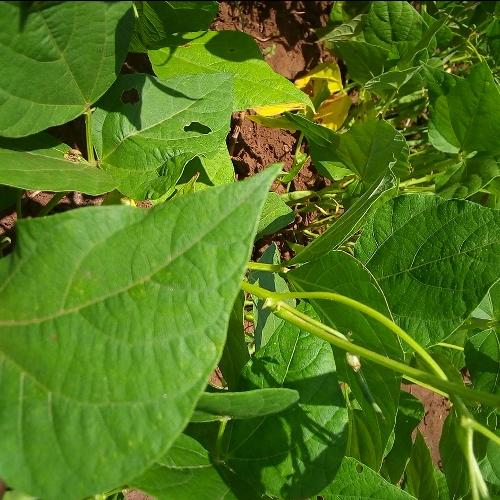sehat: (21, 182, 248, 471)
